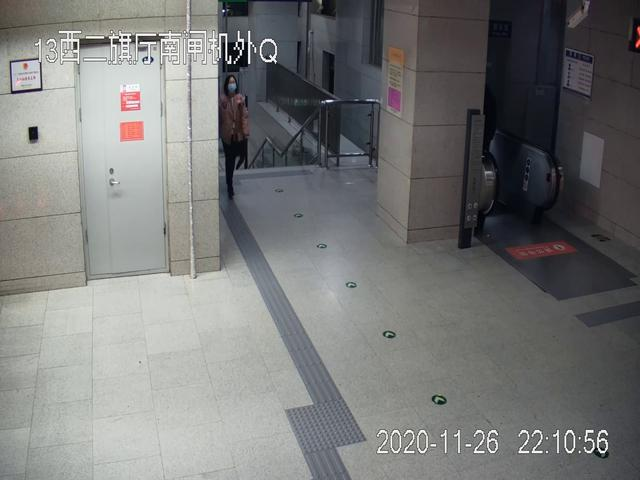person: (219, 75, 249, 200)
